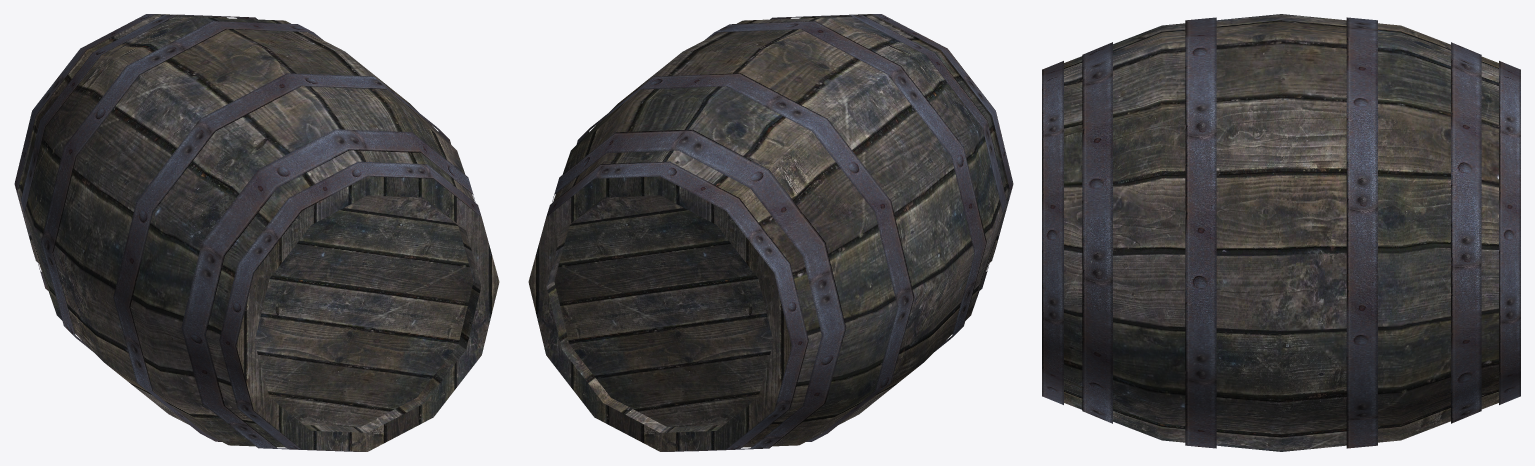
Rendered from nvwoodbarrel.obj.
3 renders of one model, left to right at view 1: azimuth 30°, elevation 25°; view 2: azimuth 150°, elevation 25°; view 3: azimuth 270°, elevation 25°, orthographic. The views are drawn at different scales.
Parts seen in each view (by area): view 1: NVWoodBarrel:0; view 2: NVWoodBarrel:0; view 3: NVWoodBarrel:0.
Part boxes in pixels (<box>): NVWoodBarrel:0: <box>14,14,499,451</box>; NVWoodBarrel:0: <box>528,14,1013,451</box>; NVWoodBarrel:0: <box>1042,14,1520,451</box>.
Size of the model in its own units: 56.76 by 56.76 by 61.8.
